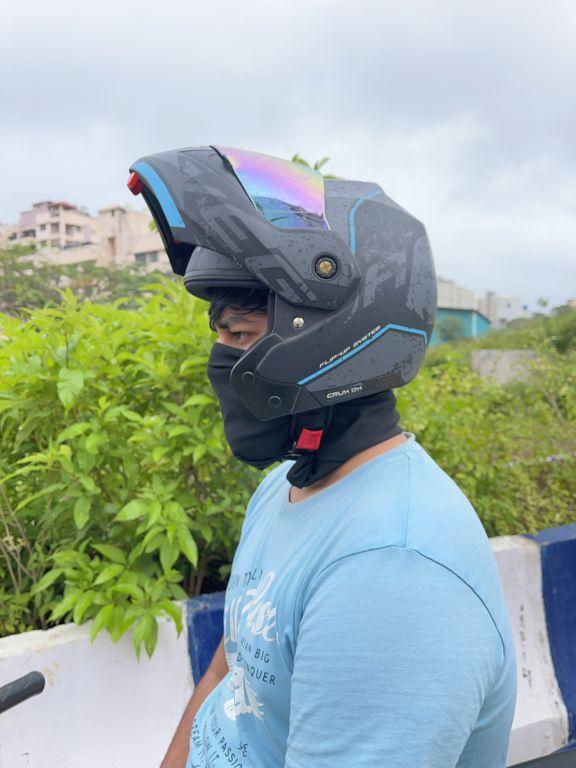helmet: (122, 134, 441, 463)
